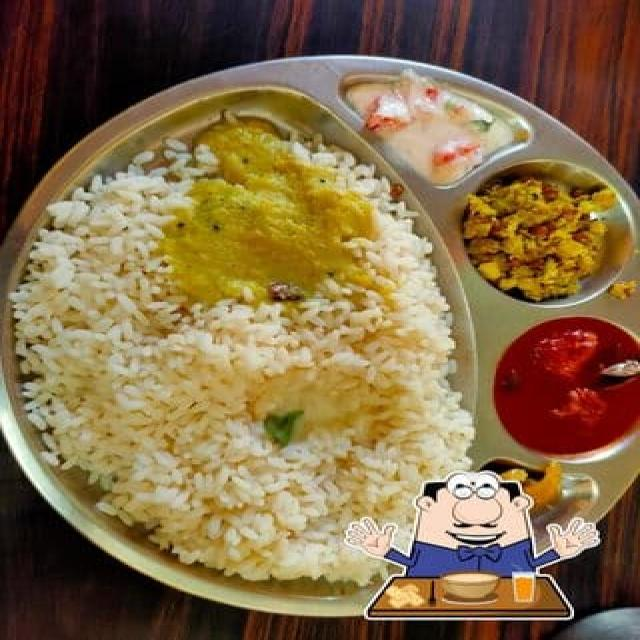veg meals: (3, 56, 640, 594)
